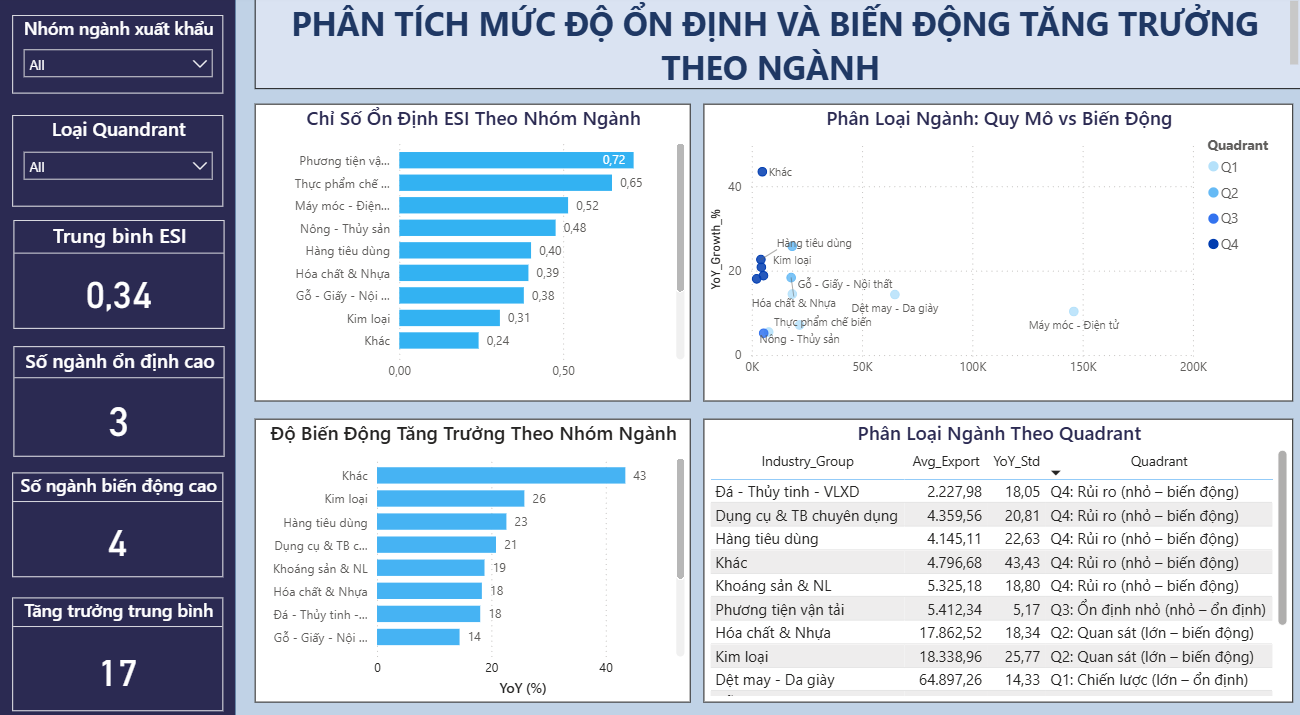

Layout of this report page (visuals, bound fields, positions):
{"tool":"powerbi","page":{"name":"Ổn định và Biến động Ngành","canvas":[1280,720],"ordinal":3},"visuals":[{"type":"shape","box":[0,0,234.8,720.2],"z":0},{"type":"card","title":"Tăng trưởng trung bình ","fields":{"Values":["kpi_summary.YoY Std TB"]},"box":[15.9,589.4,206.7,111.3],"z":1000},{"type":"card","title":"Số ngành ổn định cao","fields":{"Values":["kpi_summary.Nganh On Dinh Cao"]},"box":[17.1,343.6,206.7,107.6],"z":2000},{"type":"card","title":"Trung bình ESI ","fields":{"Values":["kpi_summary.Avg ESI2"]},"box":[17.1,220.1,206.7,106.4],"z":3000},{"type":"clusteredBarChart","title":"Chỉ Số Ổn Định ESI Theo Nhóm Ngành","fields":{"Y":["Sum(kpi_summary.ESI)"],"Category":["kpi_summary.Industry_Group"]},"box":[253.1,106.4,426.8,291],"z":4000},{"type":"slicer","title":"Nhóm ngành xuất khẩu","fields":{"Values":["dim_industry.Industry_Group"]},"box":[15.9,19.6,206.7,77],"z":5000},{"type":"card","title":"Số ngành biến động cao","fields":{"Values":["kpi_summary.Nganh Bien Dong Cao"]},"box":[15.9,467.1,206.7,102.7],"z":6000},{"type":"textbox","box":[253.1,0,1027.2,91.7],"z":7000},{"type":"clusteredBarChart","title":"Độ Biến Động Tăng Trưởng Theo Nhóm Ngành","fields":{"Category":["kpi_summary.Industry_Group"],"Y":["Sum(kpi_summary.YoY_Std)"]},"box":[253.1,414.5,426.8,277.6],"z":8000},{"type":"tableEx","title":"Phân Loại Ngành Theo Quadrant","fields":{"Values":["kpi_quadrant.Industry_Group","Sum(kpi_quadrant.Avg_Export_M)","Sum(kpi_quadrant.YoY_Std)","kpi_quadrant.Quadrant"]},"box":[692.1,414.5,577.2,277.6],"z":9000},{"type":"scatterChart","title":"Phân loại Ngành theo Quy mô  và Mức độ Biến động Tăng trưởng","fields":{"X":["Sum(kpi_quadrant.Avg_Export_M)"],"Y":["Sum(kpi_quadrant.YoY_Std)"],"Category":["kpi_quadrant.Industry_Group"],"Series":["kpi_quadrant.Quadrant_Short"]},"box":[692.1,106.4,577.2,291],"z":10000},{"type":"slicer","title":"Loại Quandrant","fields":{"Values":["kpi_quadrant.Quadrant"]},"box":[15.9,117.4,206.7,89.3],"z":11000}]}

Visuals, with their boxes in screenshot pixels (x1, y1, x2, y2), scaled from the page's 1280x720 canvas onto the 1300x715 screenshot:
shape: box(0, 0, 238, 714)
"Tăng trưởng trung bình " card: box(16, 585, 226, 696)
"Số ngành ổn định cao" card: box(17, 341, 227, 448)
"Trung bình ESI " card: box(17, 219, 227, 324)
"Chỉ Số Ổn Định ESI Theo Nhóm Ngành" clusteredBarChart: box(257, 106, 691, 395)
"Nhóm ngành xuất khẩu" slicer: box(16, 19, 226, 96)
"Số ngành biến động cao" card: box(16, 464, 226, 566)
textbox: box(257, 0, 1299, 91)
"Độ Biến Động Tăng Trưởng Theo Nhóm Ngành" clusteredBarChart: box(257, 412, 691, 687)
"Phân Loại Ngành Theo Quadrant" tableEx: box(703, 412, 1289, 687)
"Phân loại Ngành theo Quy mô  và Mức độ Biến động Tăng trưởng" scatterChart: box(703, 106, 1289, 395)
"Loại Quandrant" slicer: box(16, 117, 226, 205)
